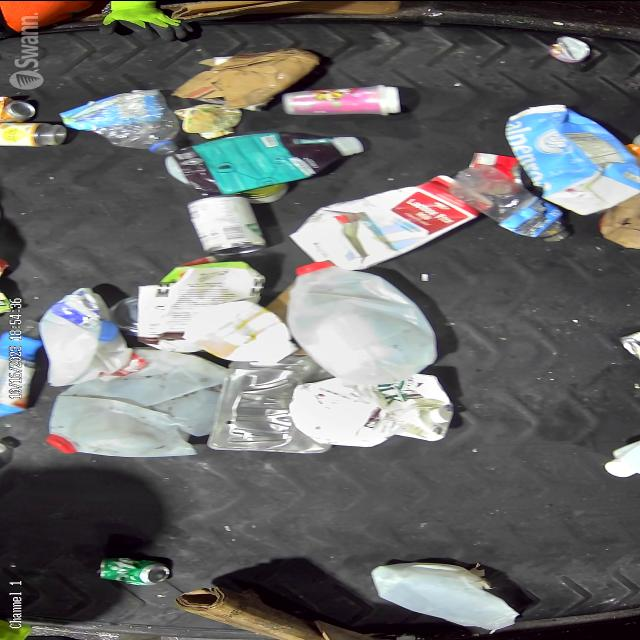can: (186, 195, 266, 255), (95, 555, 171, 585), (468, 152, 532, 186), (109, 293, 139, 335), (548, 36, 590, 62), (0, 95, 35, 123), (619, 331, 640, 359)
milk_jug: (46, 347, 226, 458), (287, 260, 439, 384), (289, 372, 453, 447), (370, 561, 520, 630), (39, 285, 132, 386)
non_white_jug: (288, 172, 486, 268), (504, 104, 640, 214), (164, 131, 363, 191)
plastic_bottle: (450, 165, 570, 241), (60, 89, 178, 155)
